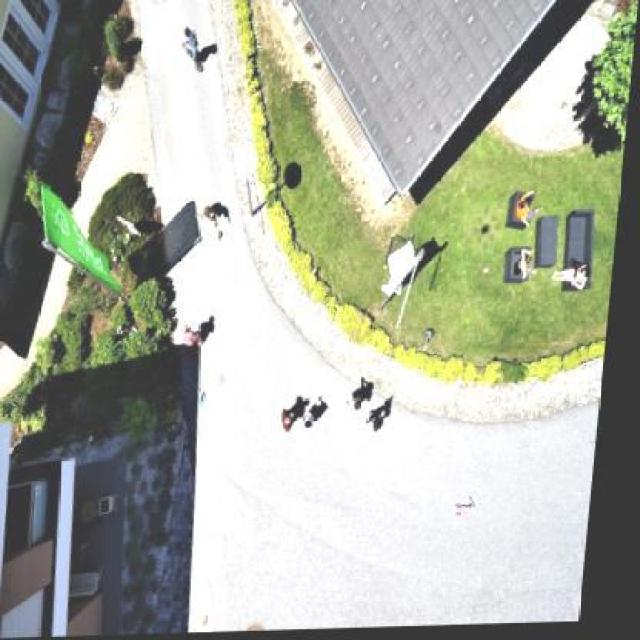Person: (178, 19, 213, 75), (557, 260, 597, 297), (517, 189, 546, 233), (187, 320, 216, 357), (203, 196, 234, 230), (372, 407, 402, 441), (519, 247, 546, 284), (285, 399, 313, 430), (309, 404, 333, 438), (352, 392, 380, 417)
